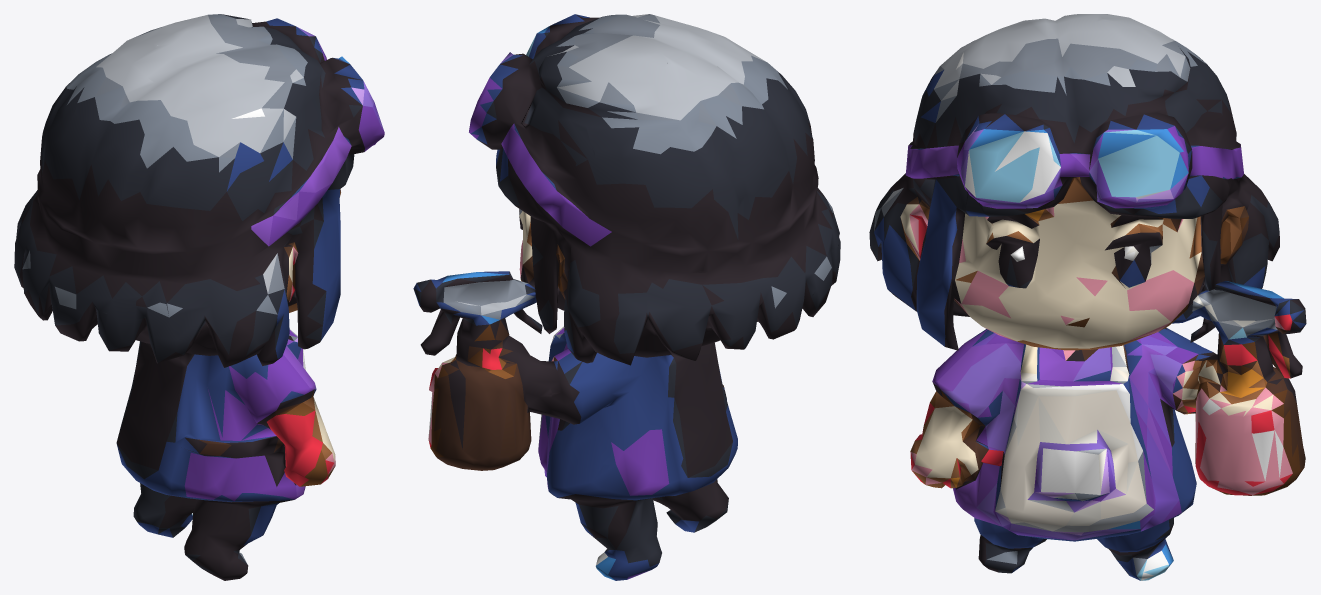
Rendered from SK_hero_spray.glb.
3 views of the same model, side by side, from view 1: azimuth 30°, elevation 25°; view 2: azimuth 150°, elevation 25°; view 3: azimuth 270°, elevation 25° (orthographic). The views are drawn at different scales.
Parts seen in each view (by area): view 1: SK_hero_spray; view 2: SK_hero_spray; view 3: SK_hero_spray.
Boxes of the visible parts, x1=… form: SK_hero_spray: x1=14, y1=14, x2=384, y2=580; SK_hero_spray: x1=413, y1=14, x2=840, y2=580; SK_hero_spray: x1=869, y1=14, x2=1306, y2=580.
Size of the model in its own units: 0.7074 by 1.15 by 0.8325.
Materials: 1 (1 with a texture image).
